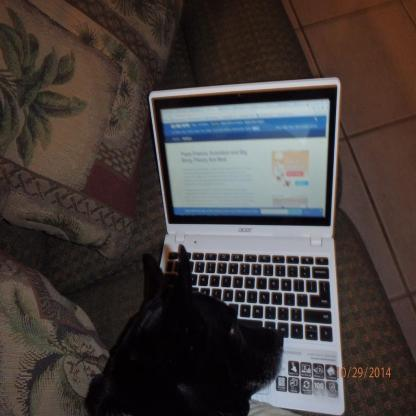board: (149, 76, 345, 416)
